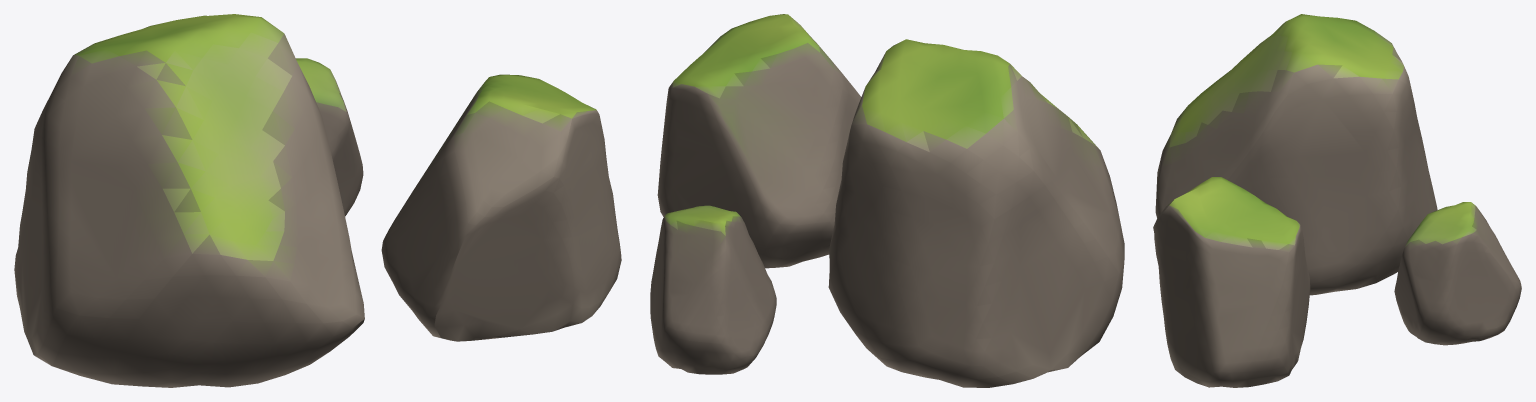
The model's file is rock_c.glb.
3 renders of one model, left to right at view 1: azimuth 30°, elevation 25°; view 2: azimuth 150°, elevation 25°; view 3: azimuth 270°, elevation 25°, orthographic. The views are drawn at different scales.
Parts seen in each view (by area): view 1: rock_c; view 2: rock_c; view 3: rock_c.
Boxes of the visible parts, x1,y1,x2,y2 form: rock_c: [14, 14, 621, 387]; rock_c: [650, 14, 1124, 387]; rock_c: [1153, 14, 1521, 387].
Bounding box in the file's own units: 1.94 × 1.07 × 1.54.
